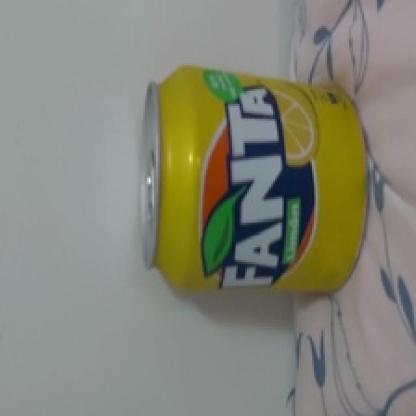Can: (138, 65, 372, 299)
